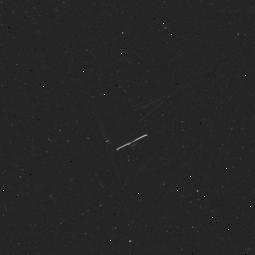double_start: (102, 111, 161, 160)
